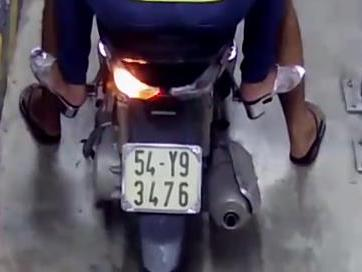num_plate: (120, 141, 200, 216)
